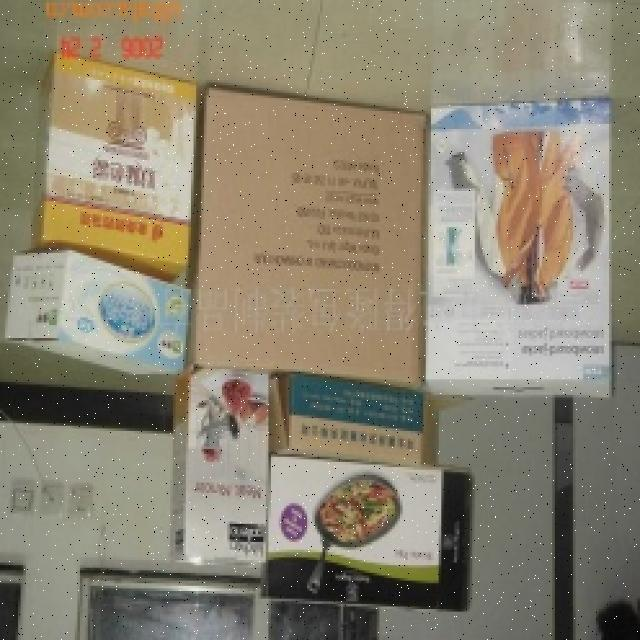box: (192, 76, 424, 395), (418, 99, 615, 398), (19, 46, 188, 282), (267, 457, 446, 601), (0, 248, 186, 380), (164, 374, 262, 574), (270, 376, 434, 472)
